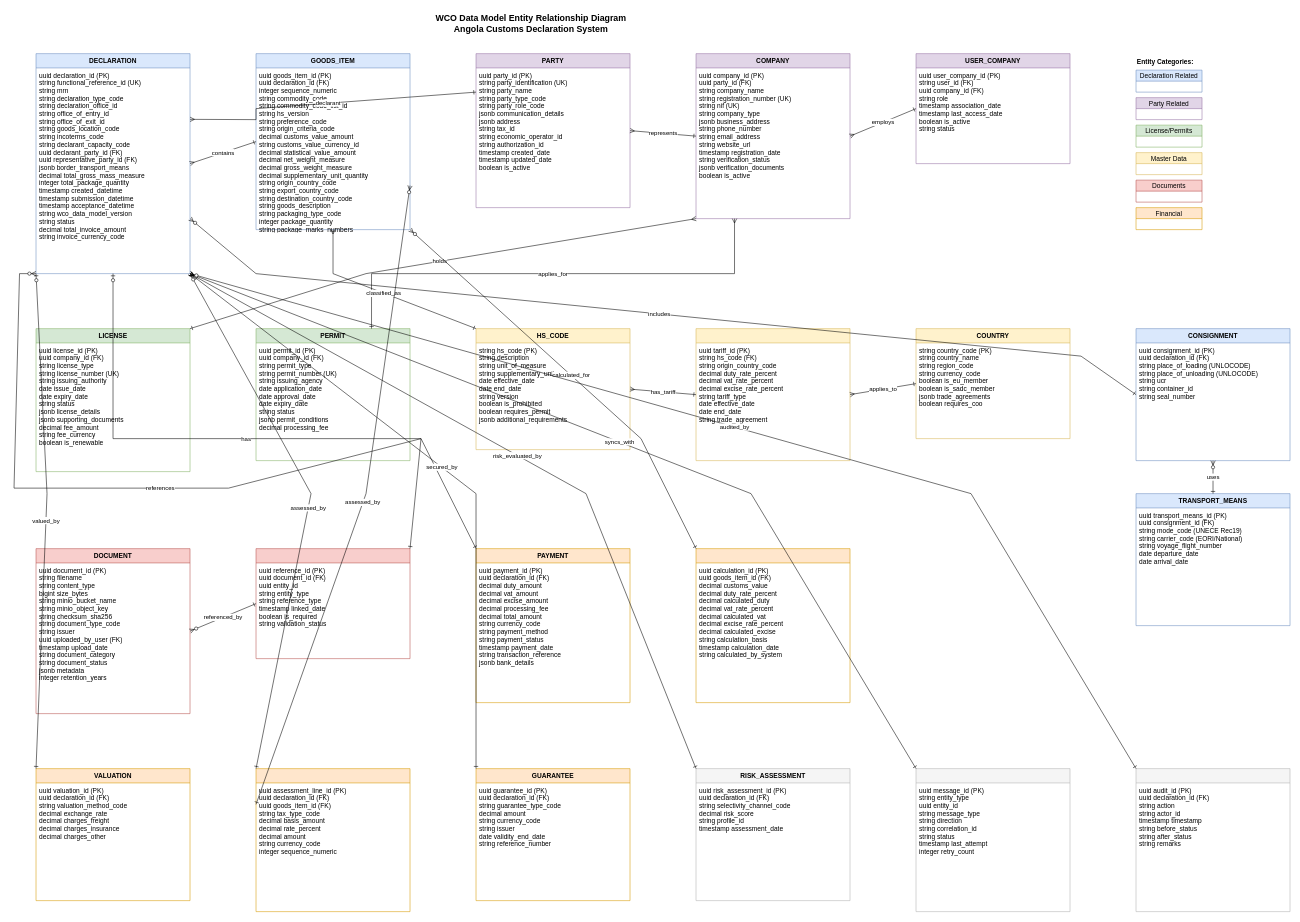
Some shapes in this 1300 by 922 pixel diagram are drawn without their labels. The shapes that lost their labels are listed below. From the top down, each one's box as (x1, y1, x2, y2) in pixels, then its label:
(695, 328, 850, 461): TARIFF_SCHEDULE
(255, 548, 410, 659): DOCUMENT_REFERENCE
(695, 548, 850, 703): DUTY_CALCULATION
(255, 768, 410, 912): DUTY_TAX_FEE
(915, 768, 1070, 912): INTEGRATION_MESSAGE
(1135, 768, 1290, 912): AUDIT_EVENT
